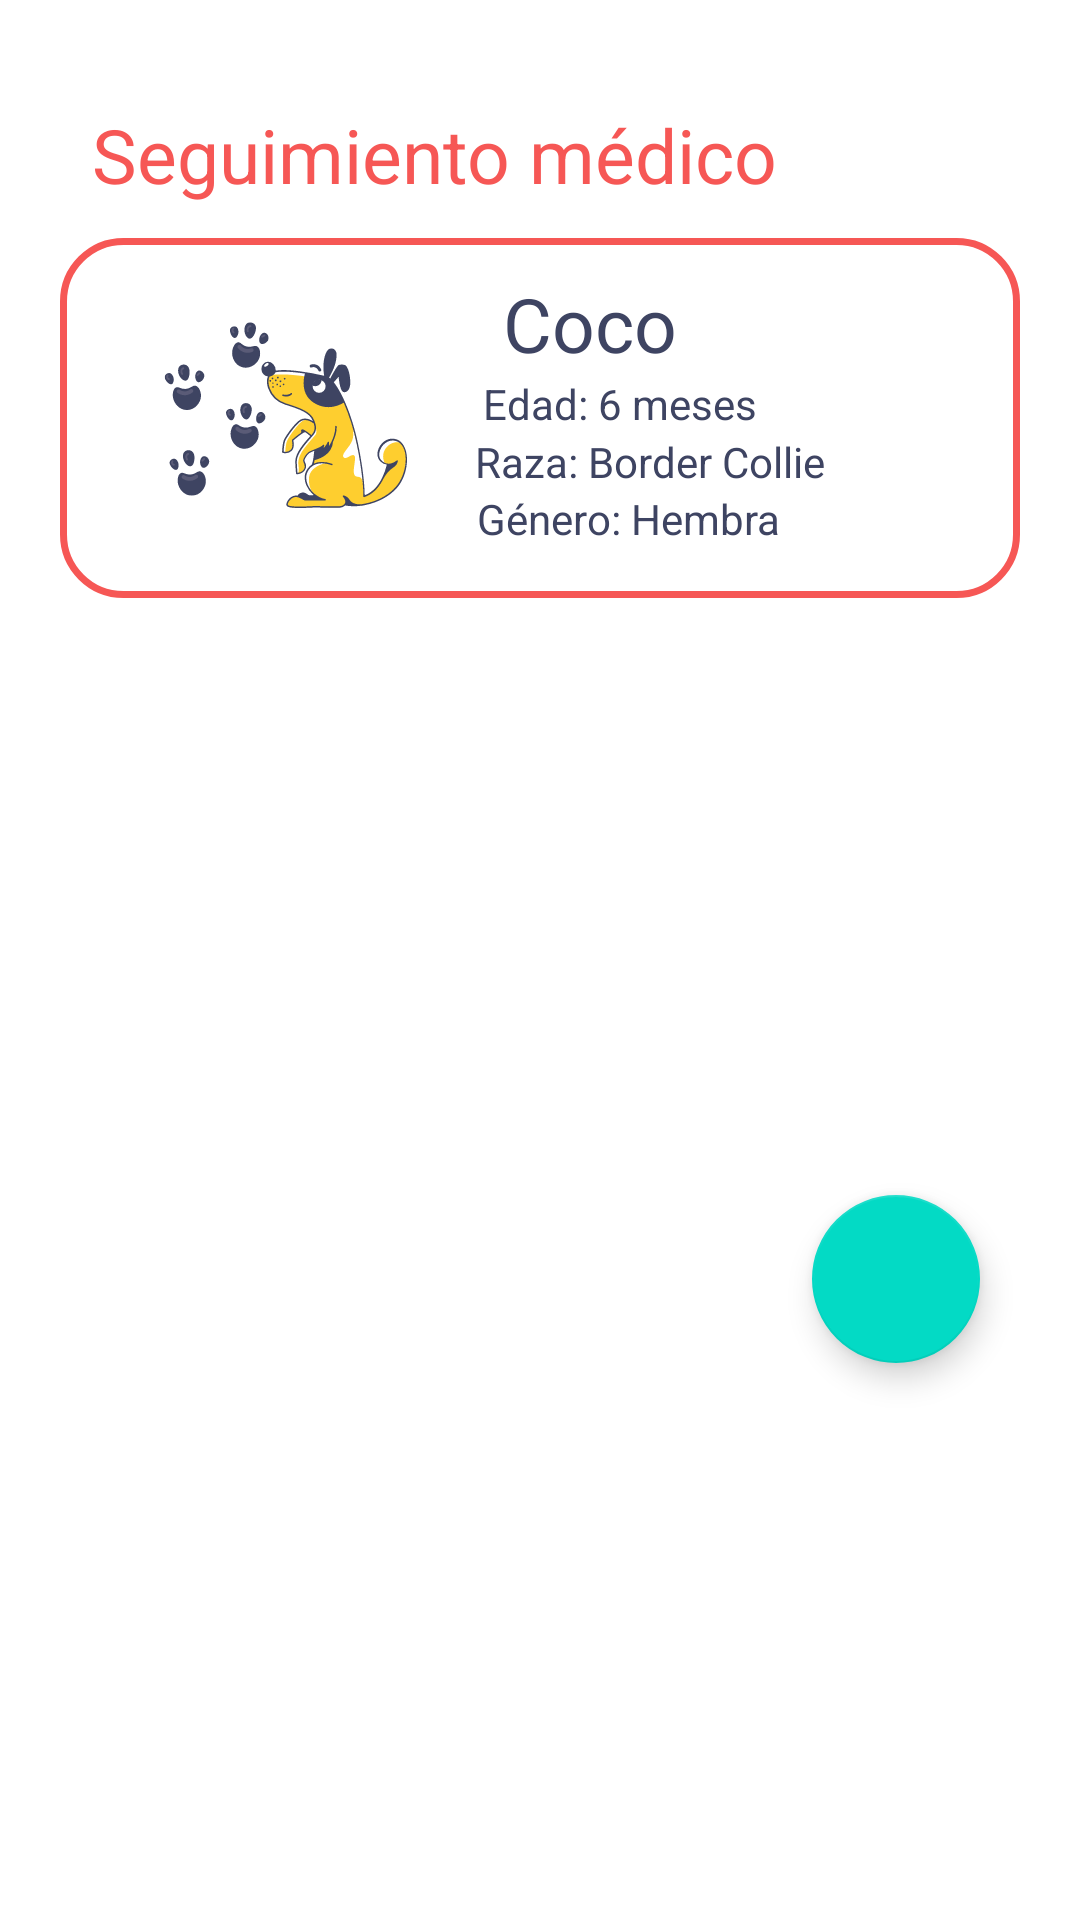

Locate icon controls on the screen. Image size 1080px×1920px, boxes as bbox=[x1, y1, x2, y2].
doggie: bbox=[165, 322, 407, 508]
